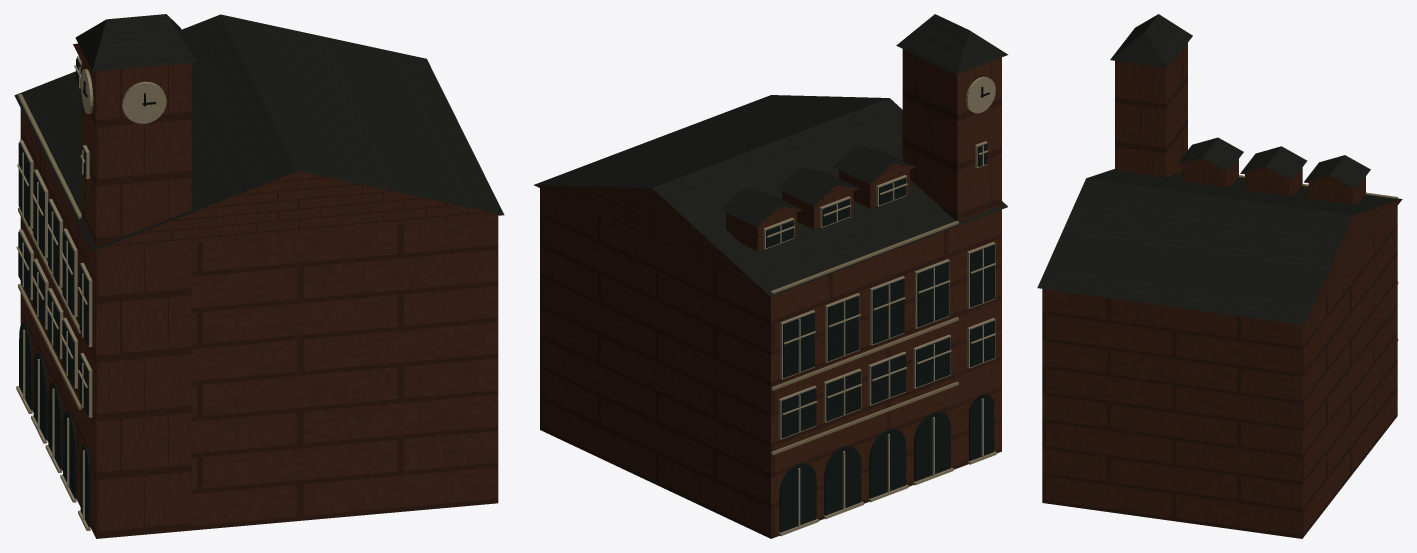
The picture shows the model from 3 angles, left to right: view 1: azimuth 30°, elevation 25°; view 2: azimuth 150°, elevation 25°; view 3: azimuth 270°, elevation 25°; orthographic projection. The views are drawn at different scales.
Parts seen in each view (by area): view 1: voorwaarts-slaak-2, voorwaarts-slaak-3, voorwaarts-slaak-5, voorwaarts-slaak-0, voorwaarts-slaak-4; view 2: voorwaarts-slaak-2, voorwaarts-slaak-3, voorwaarts-slaak-5, voorwaarts-slaak-0, voorwaarts-slaak-4; view 3: voorwaarts-slaak-2, voorwaarts-slaak-3.
Part boxes in pixels (<box>): voorwaarts-slaak-2: <box>20,44,503,538</box>; voorwaarts-slaak-3: <box>14,14,504,251</box>; voorwaarts-slaak-5: <box>18,58,90,527</box>; voorwaarts-slaak-0: <box>16,56,166,530</box>; voorwaarts-slaak-4: <box>18,94,81,409</box>; voorwaarts-slaak-2: <box>534,49,1001,538</box>; voorwaarts-slaak-3: <box>534,14,1008,296</box>; voorwaarts-slaak-5: <box>766,143,994,532</box>; voorwaarts-slaak-0: <box>763,76,996,536</box>; voorwaarts-slaak-4: <box>770,221,958,455</box>; voorwaarts-slaak-2: <box>1042,43,1402,538</box>; voorwaarts-slaak-3: <box>1037,14,1402,324</box>.
Bounding box in the file's own units: 23.98 × 25.7 × 22.7.
Materials: 6 (6 with a texture image).
